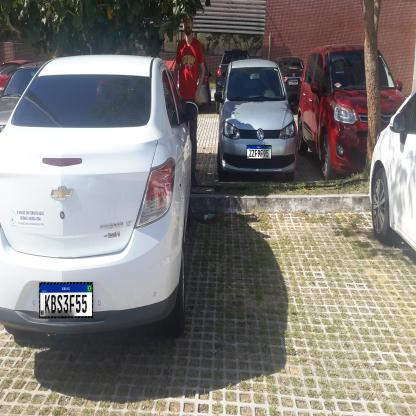PlacaM: (39, 282, 93, 318), (247, 145, 272, 159)
